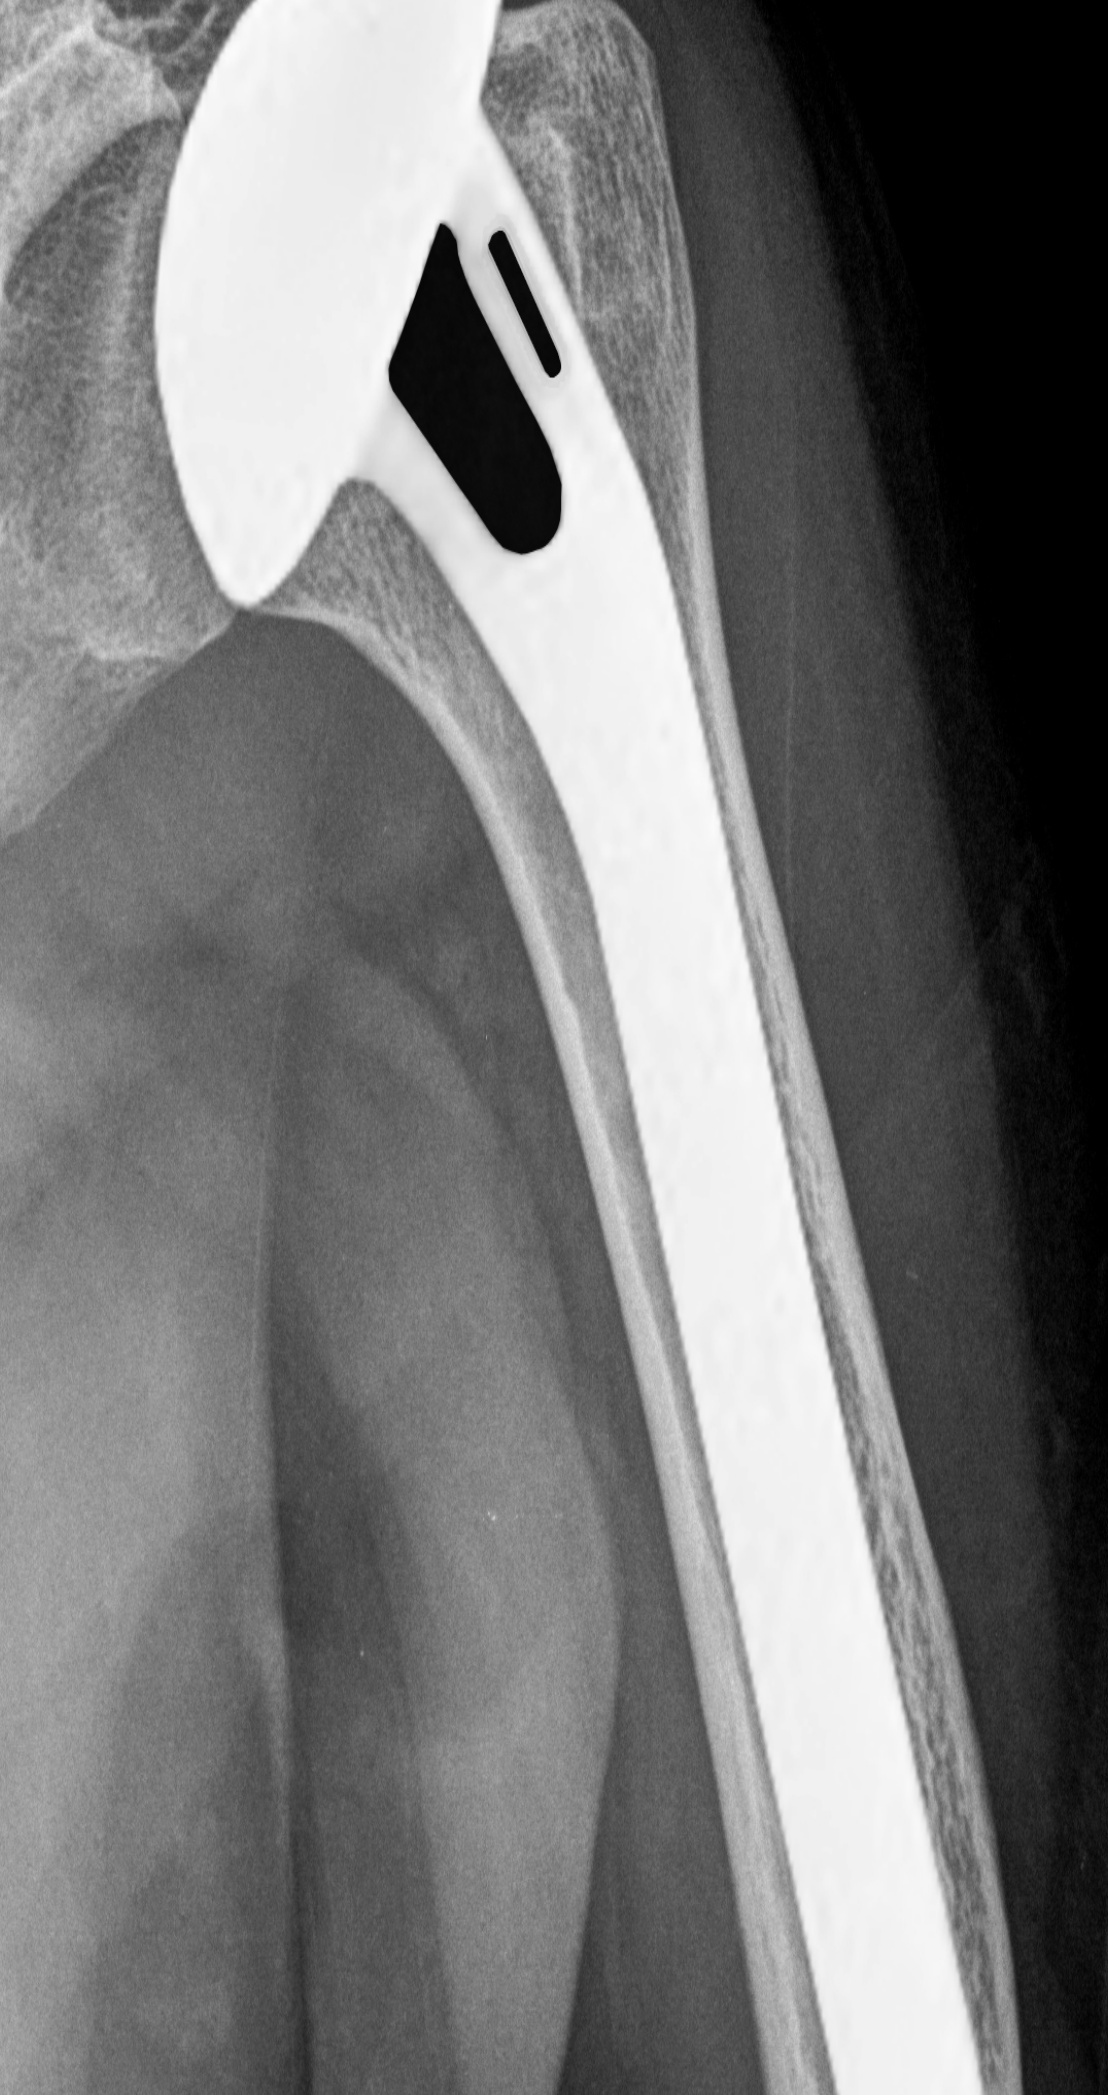Shoulder - AequalisFracture - Tornier: (111, 4, 640, 619)
